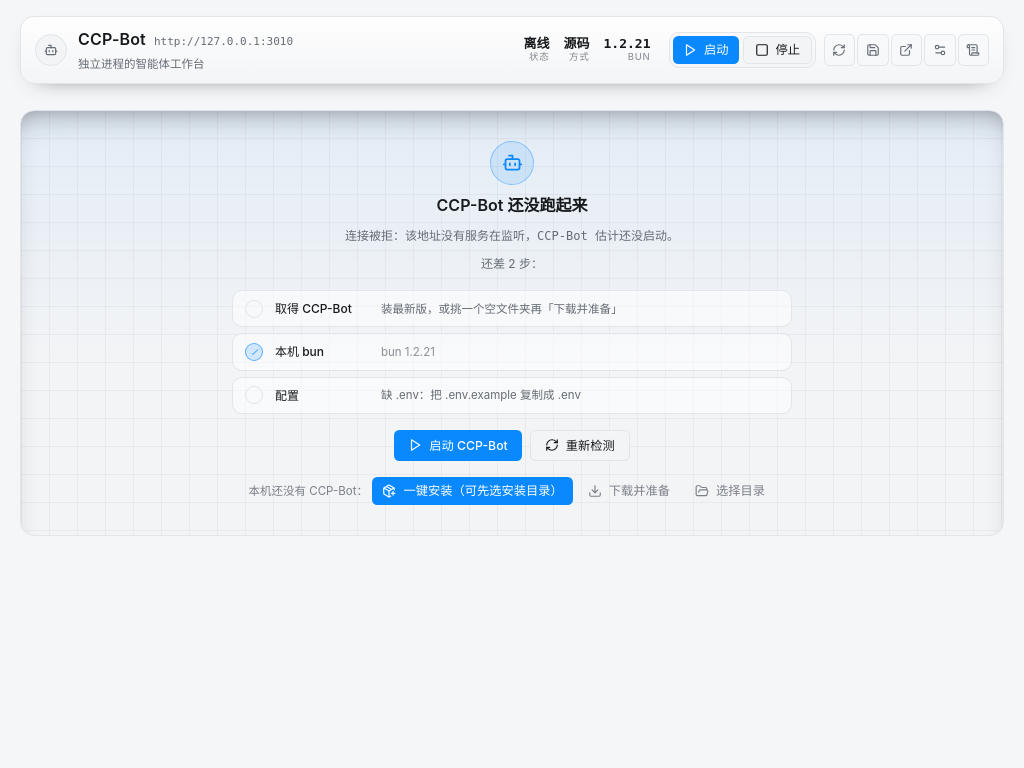
Scenario: CCP-Bot 界面 › 日志抽屉只在被打开时读尾部
This screenshot has width=1024, height=768.
expect the heading "CCP-Bot 还没跑起来" is shown: met, box left=437, top=193, right=588, bottom=219
Click the button named "启动日志" at (973, 50), box left=958, top=34, right=989, bottom=66
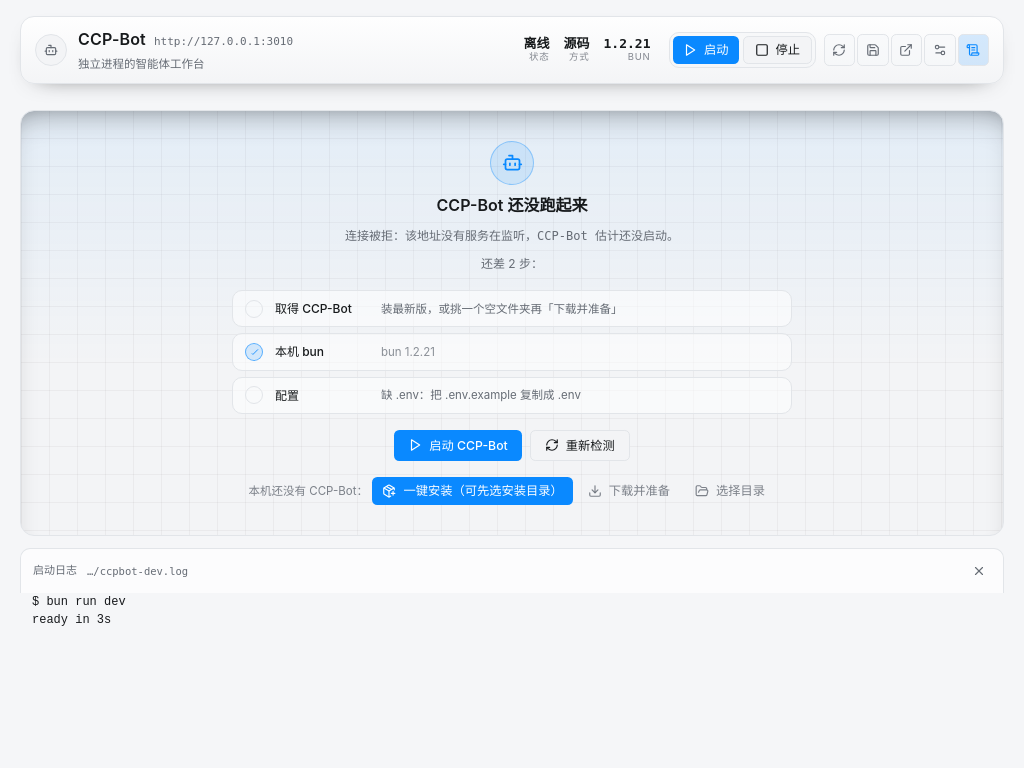
expect the text "$ bun run dev ready in 3s" is shown: met, box left=32, top=595, right=126, bottom=627
